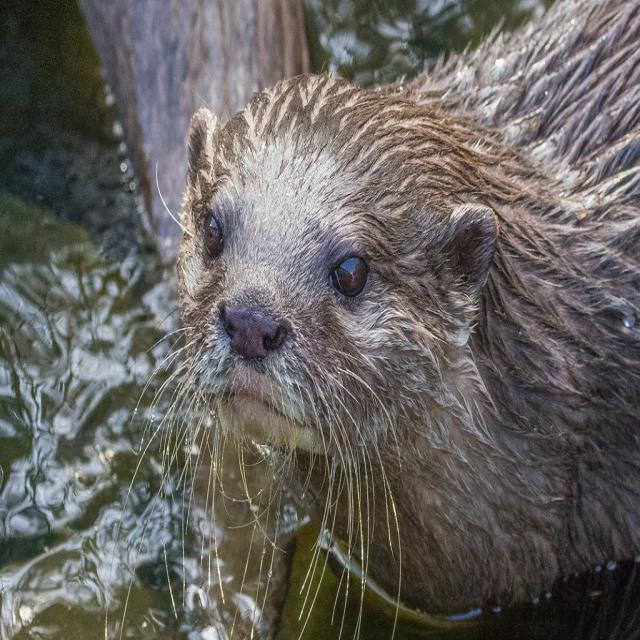otter: (180, 72, 640, 585)
